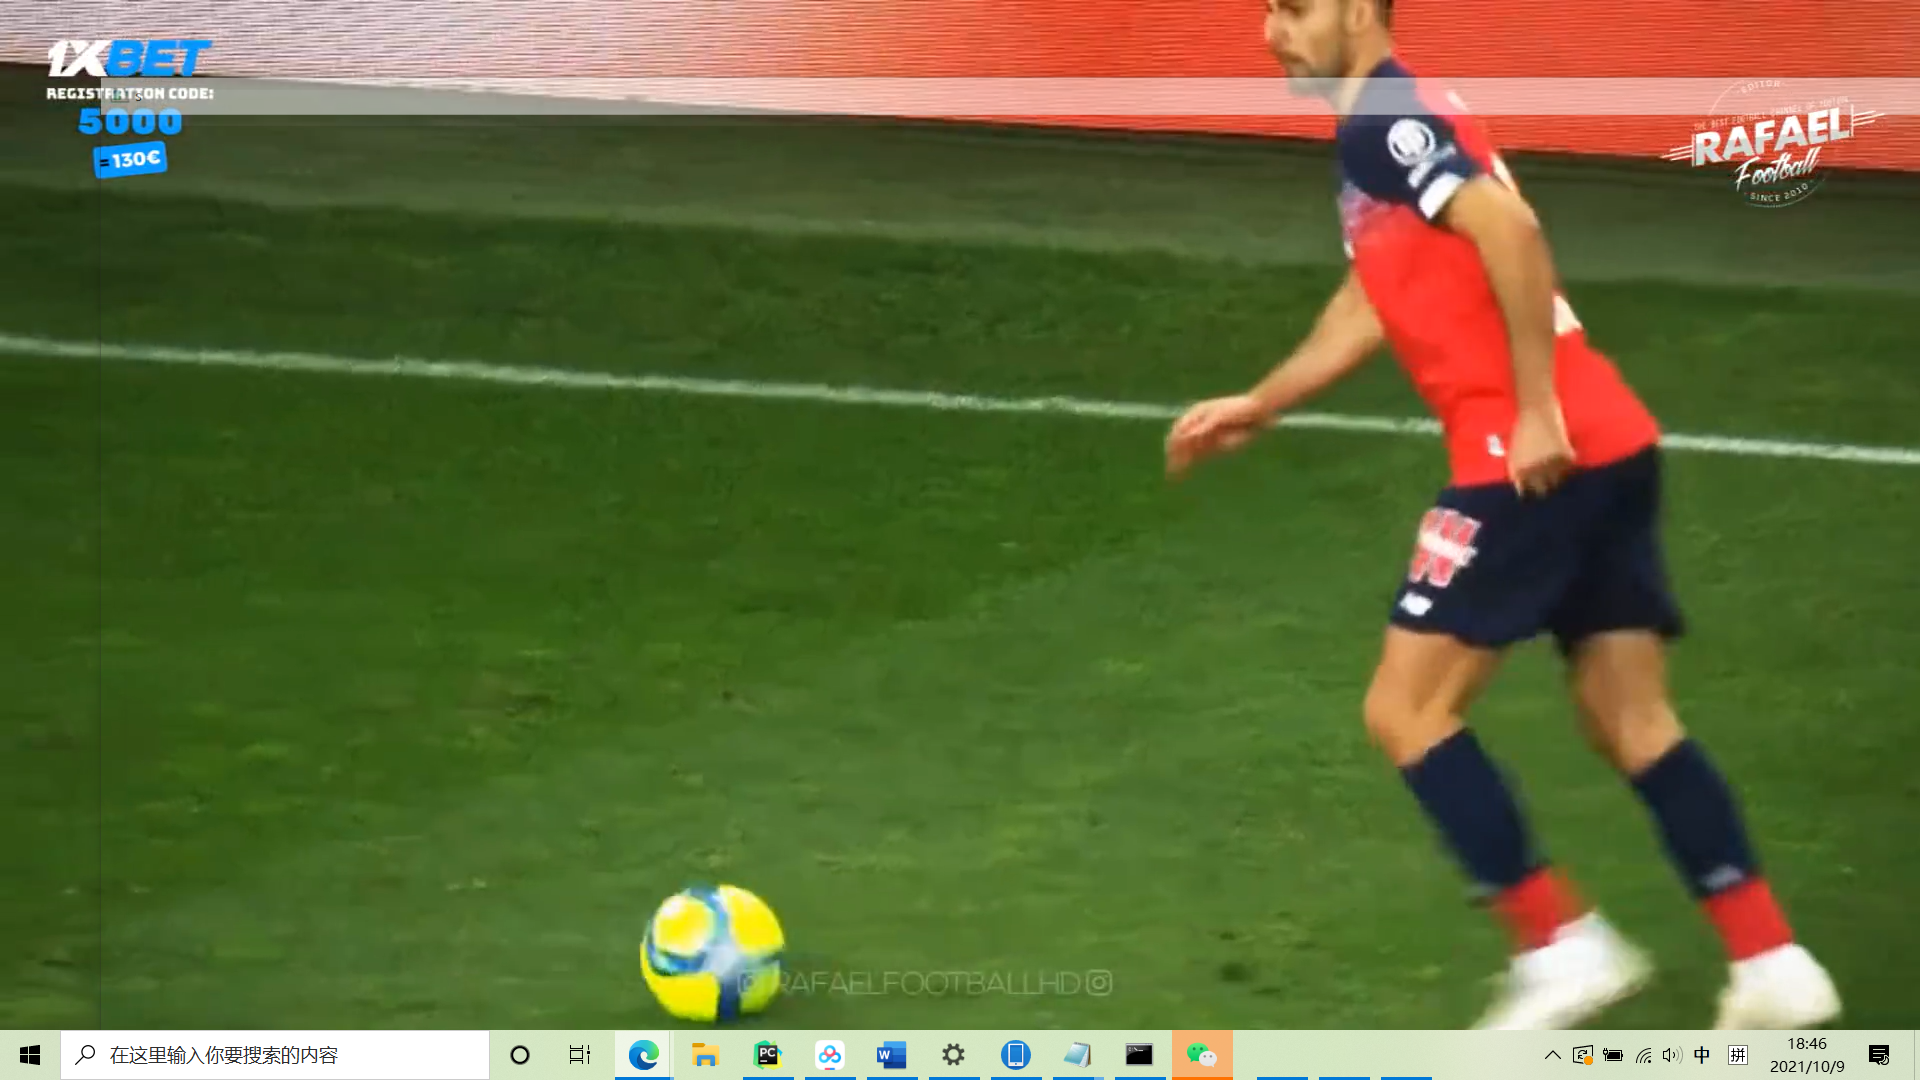ft: (625, 876, 795, 1033)
